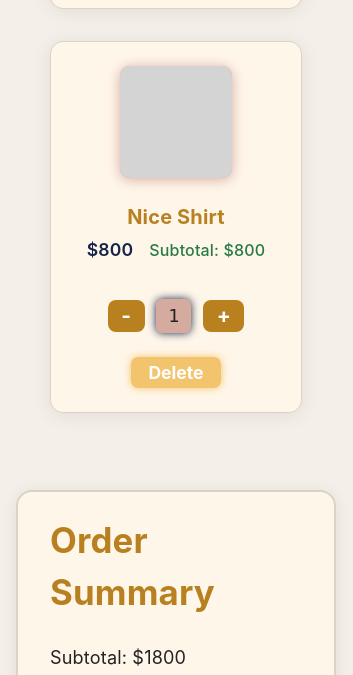
it: Cart Page › removes cart item if quantity reaches zero
This screenshot has width=353, height=675.
(page scrolled)
Step 1. Click the button "-" → (126, 316), box [108,300,144,332]
(page scrolled)
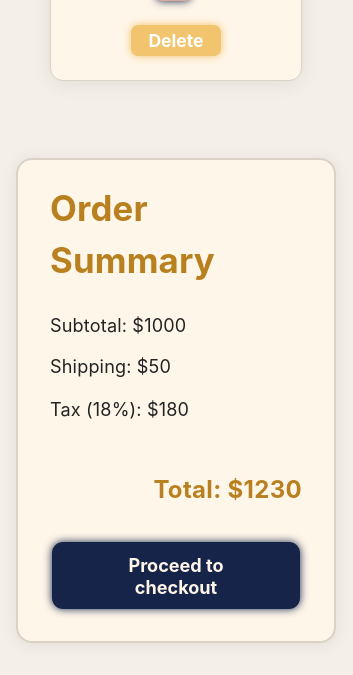
expect the link "Nice Shirt" is gone: met
expect the text with test id "checkout-subtotal" reads "Subtotal: $1000": met, box [50,314,186,336]
